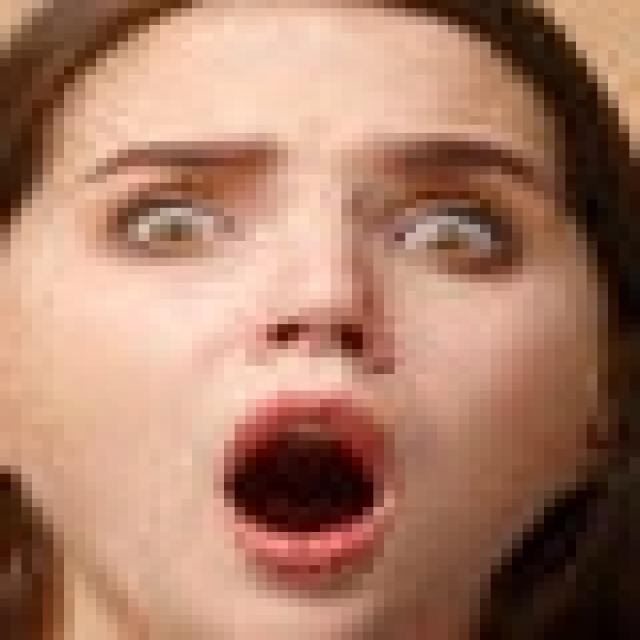Anxiety: (11, 0, 606, 632)
